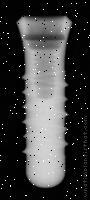Sterngold: (9, 14, 73, 191)
